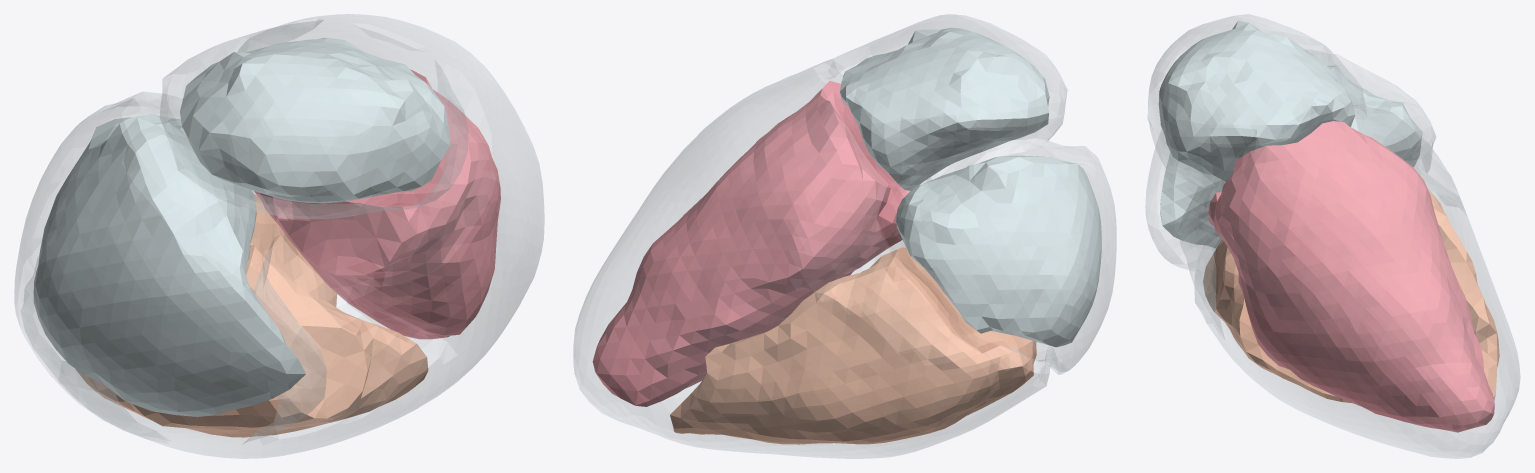
The model's file is heart-four-chamber-QRS.glb.
3 renders of one model, left to right at view 1: azimuth 30°, elevation 25°; view 2: azimuth 150°, elevation 25°; view 3: azimuth 270°, elevation 25°, orthographic. The views are drawn at different scales.
Visible parts, largest first — view 1: epicardium, right_atrium, left_atrium, left_ventricle, right_ventricle; view 2: epicardium, left_ventricle, right_ventricle, right_atrium, left_atrium; view 3: epicardium, left_ventricle, left_atrium, right_atrium, right_ventricle.
Boxes of the visible parts, x1,y1,x2,y2 form: epicardium: (14, 14, 544, 458); right_atrium: (33, 113, 305, 416); left_atrium: (180, 37, 450, 203); left_ventricle: (254, 69, 500, 339); right_ventricle: (75, 194, 428, 437); epicardium: (573, 14, 1116, 458); left_ventricle: (592, 81, 910, 406); right_ventricle: (670, 247, 1036, 444); right_atrium: (896, 155, 1101, 347); left_atrium: (840, 27, 1049, 190); epicardium: (1145, 14, 1520, 458); left_ventricle: (1208, 121, 1494, 432); left_atrium: (1158, 20, 1355, 181); right_atrium: (1160, 65, 1422, 248); right_ventricle: (1203, 189, 1499, 402).
Size of the model in its own units: 154 by 121 by 122.
